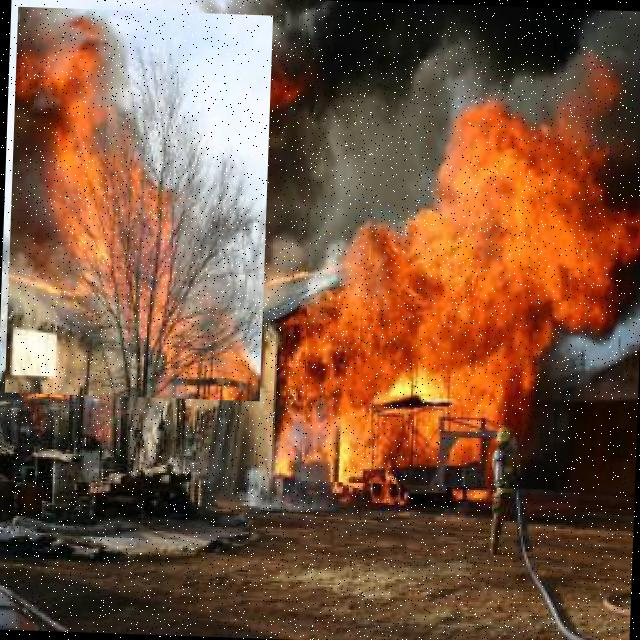fire: (300, 56, 640, 492), (4, 6, 272, 401)
